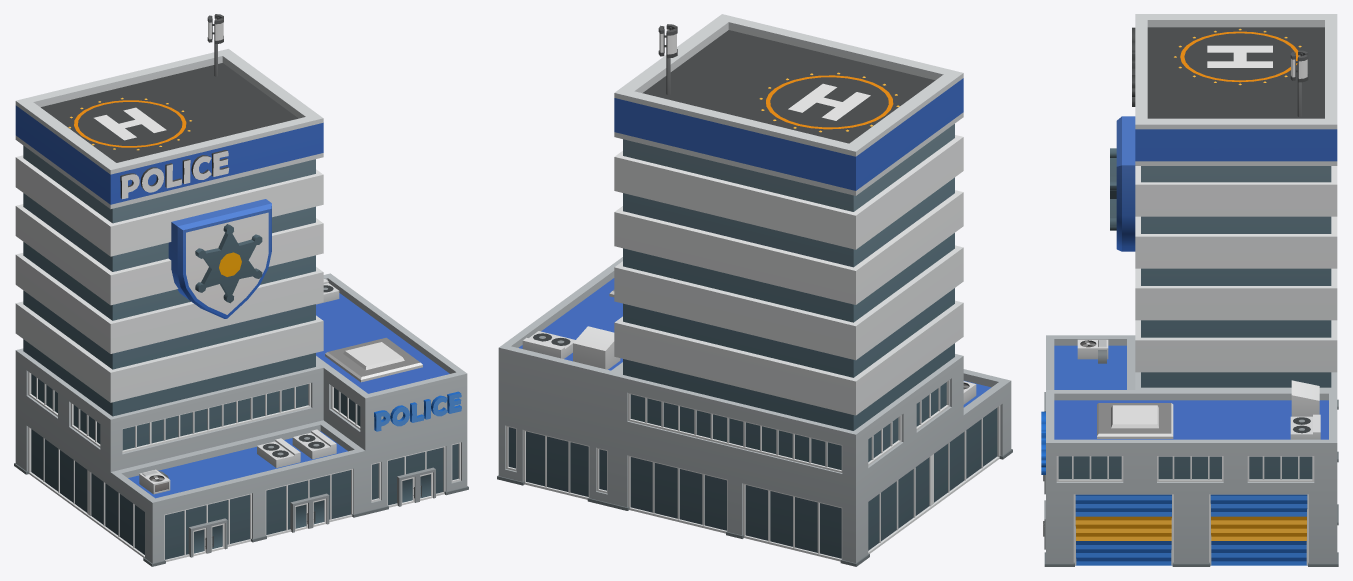
File: police_department_001.glb
The picture shows the model from 3 angles, left to right: view 1: azimuth 30°, elevation 25°; view 2: azimuth 150°, elevation 25°; view 3: azimuth 270°, elevation 25°; orthographic projection. The views are drawn at different scales.
Visible parts, largest first — view 1: police_department_001; view 2: police_department_001; view 3: police_department_001.
Part boxes in pixels (<box>): police_department_001: <box>14,14,468,566</box>; police_department_001: <box>497,14,1012,566</box>; police_department_001: <box>1041,14,1338,566</box>.
Size of the model in its own units: 27.76 by 35 by 21.18.
3 materials, 3 textured.
